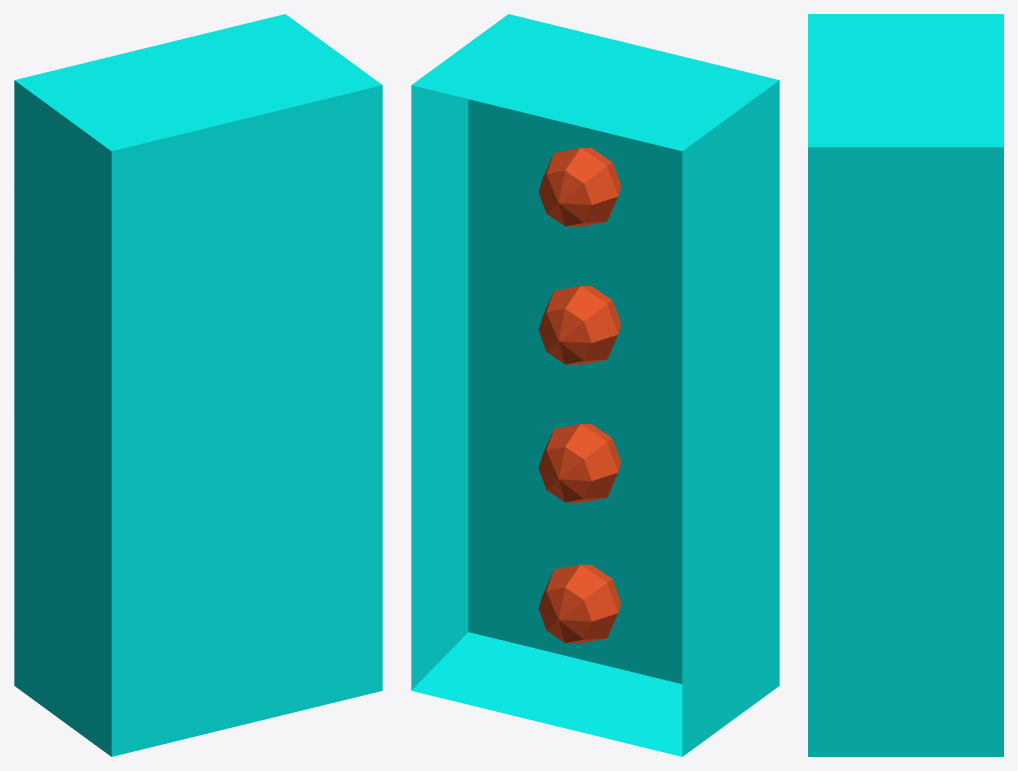
The model's file is GRIJALICA1.fbx.
3 views of the same model, side by side, from view 1: azimuth 30°, elevation 25°; view 2: azimuth 150°, elevation 25°; view 3: azimuth 270°, elevation 25° (orthographic).
Parts seen in each view (by area): view 1: Cube.001; view 2: Cube.001; view 3: Cube.001.
Boxes of the visible parts, bbox=[...] form: Cube.001: bbox=[14, 14, 382, 756]; Cube.001: bbox=[411, 14, 779, 756]; Cube.001: bbox=[808, 14, 1003, 756].
Size of the model in its own units: 218 by 465 by 135.
